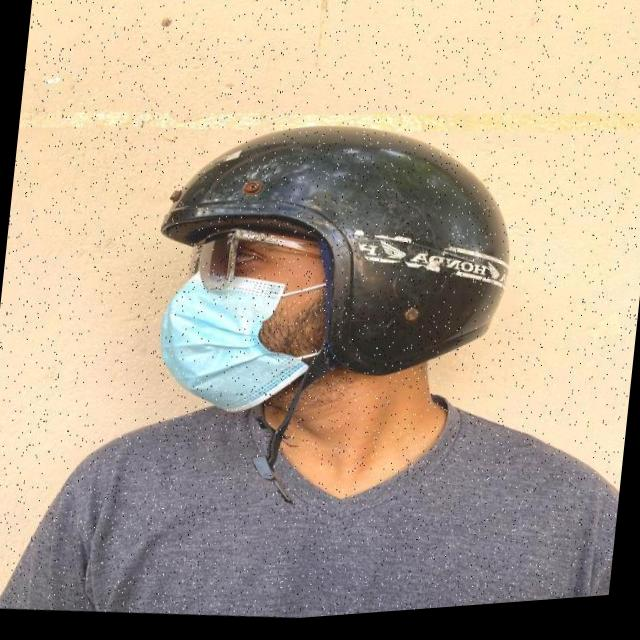helmet: (130, 103, 523, 540)
